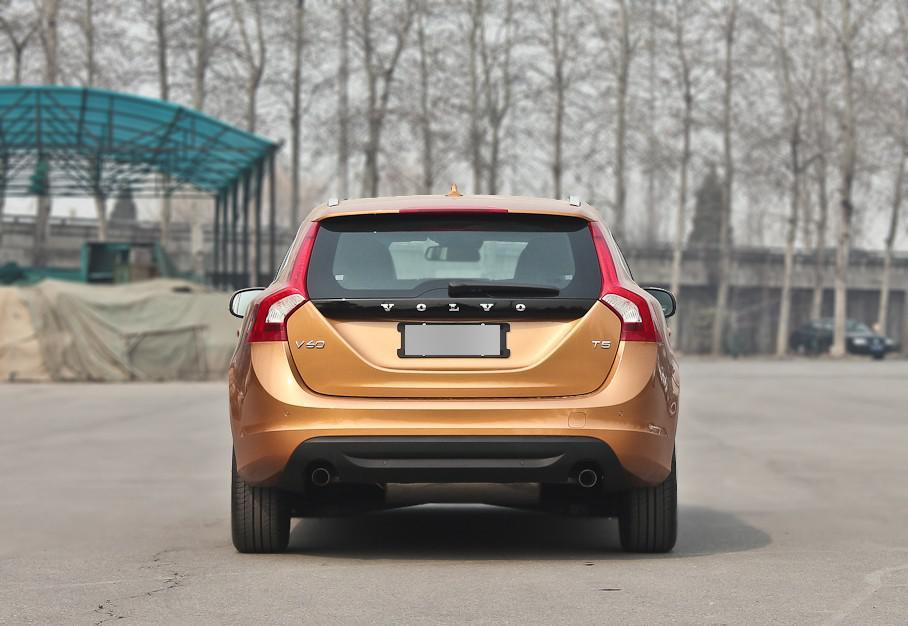Wagon: (226, 183, 683, 554)
